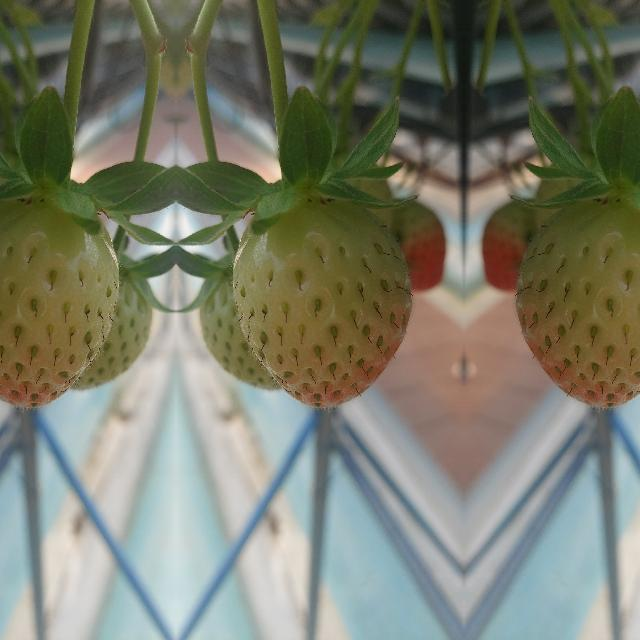Health_50: (232, 200, 410, 408), (515, 200, 640, 407), (0, 200, 118, 407)
